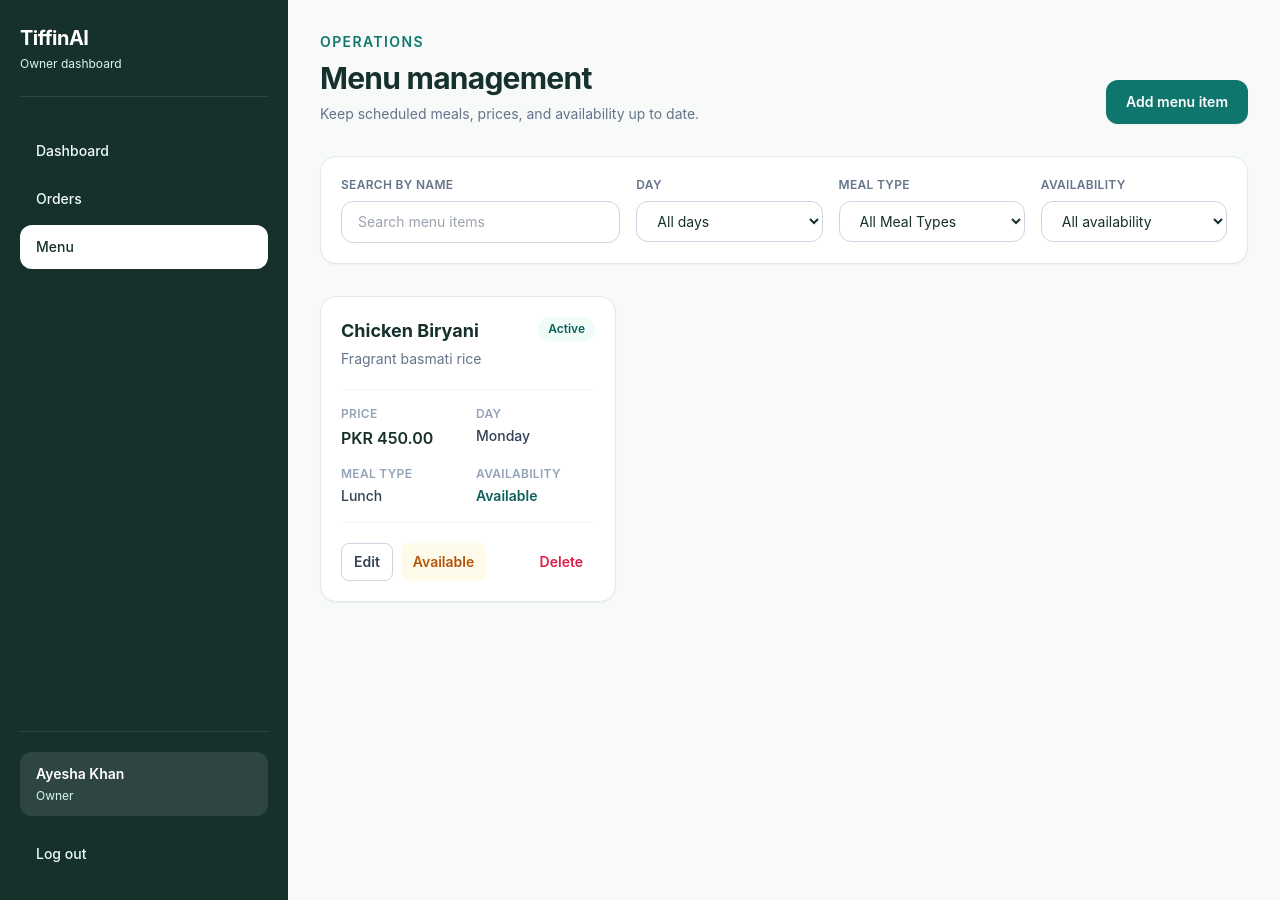
it: Menu management › edits description, price, and availability through PATCH
The image size is (1280, 900).
Click the button with aria-label "Edit Chicken Biryani" at (367, 562), box [341,543,393,581]
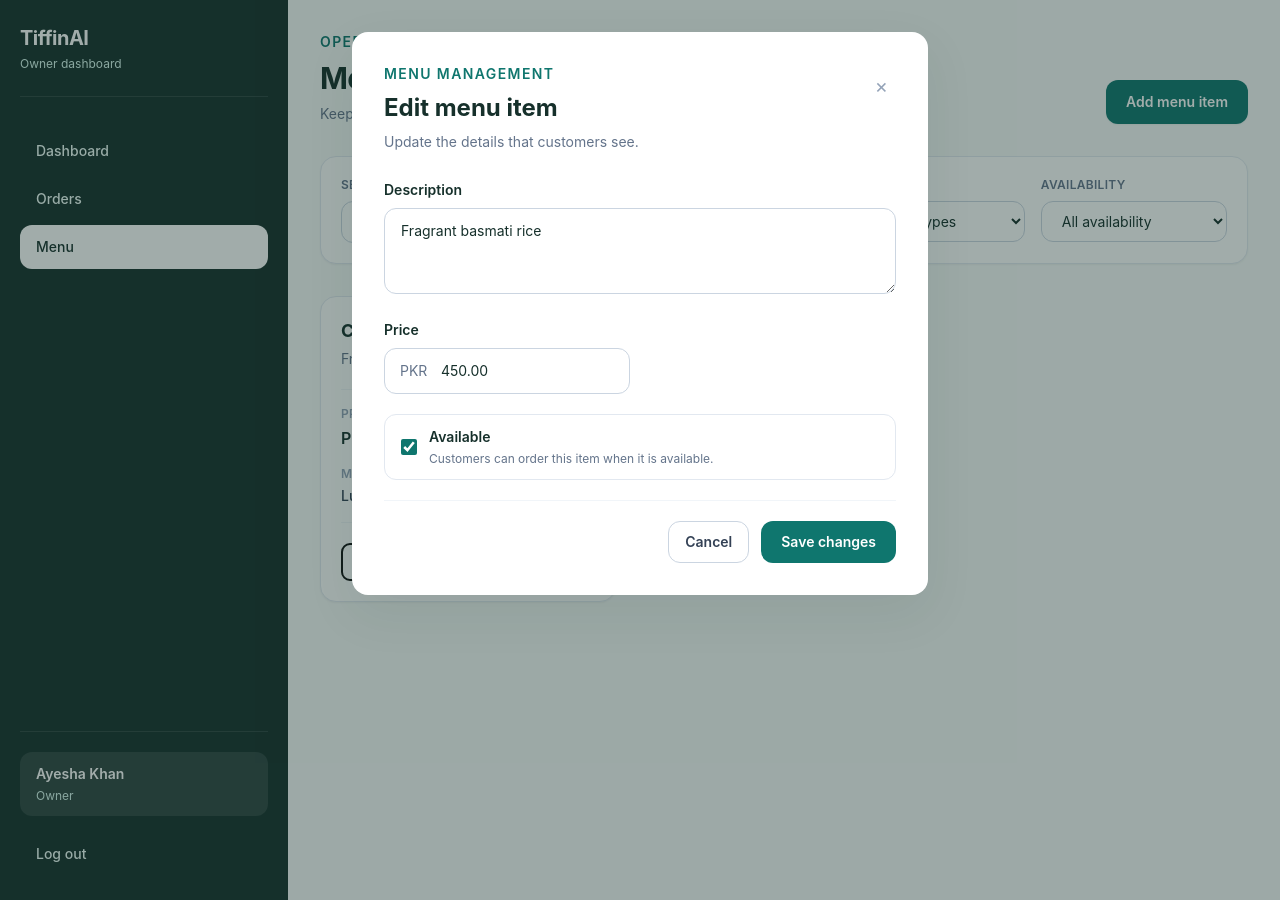
Replace the text in the text box labelled "Description" with "Extra fragrant basmati rice" at (640, 251), box [384,208,896,294]
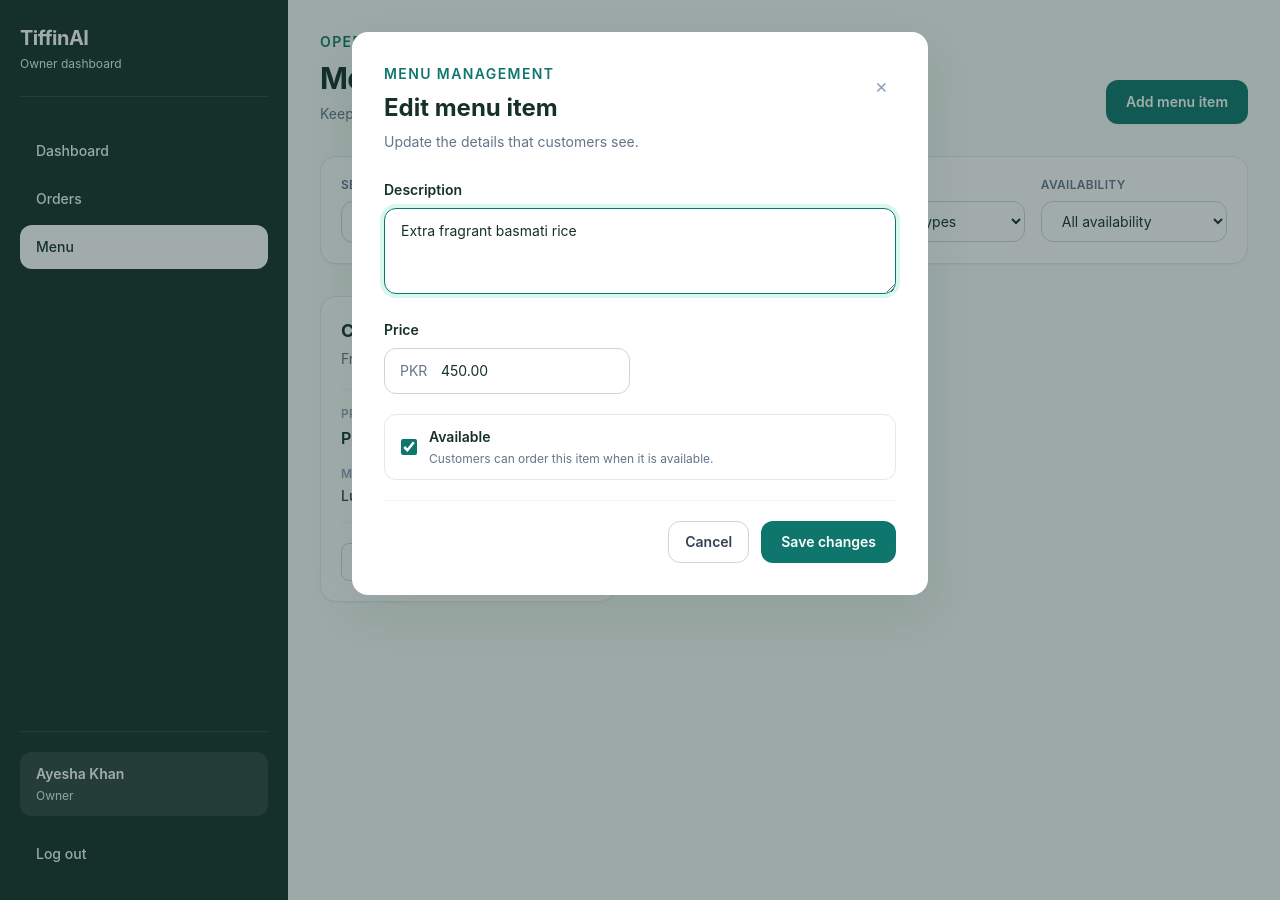
Type "475.00" into the field labelled "Price" at (507, 371), box [384,348,630,394]
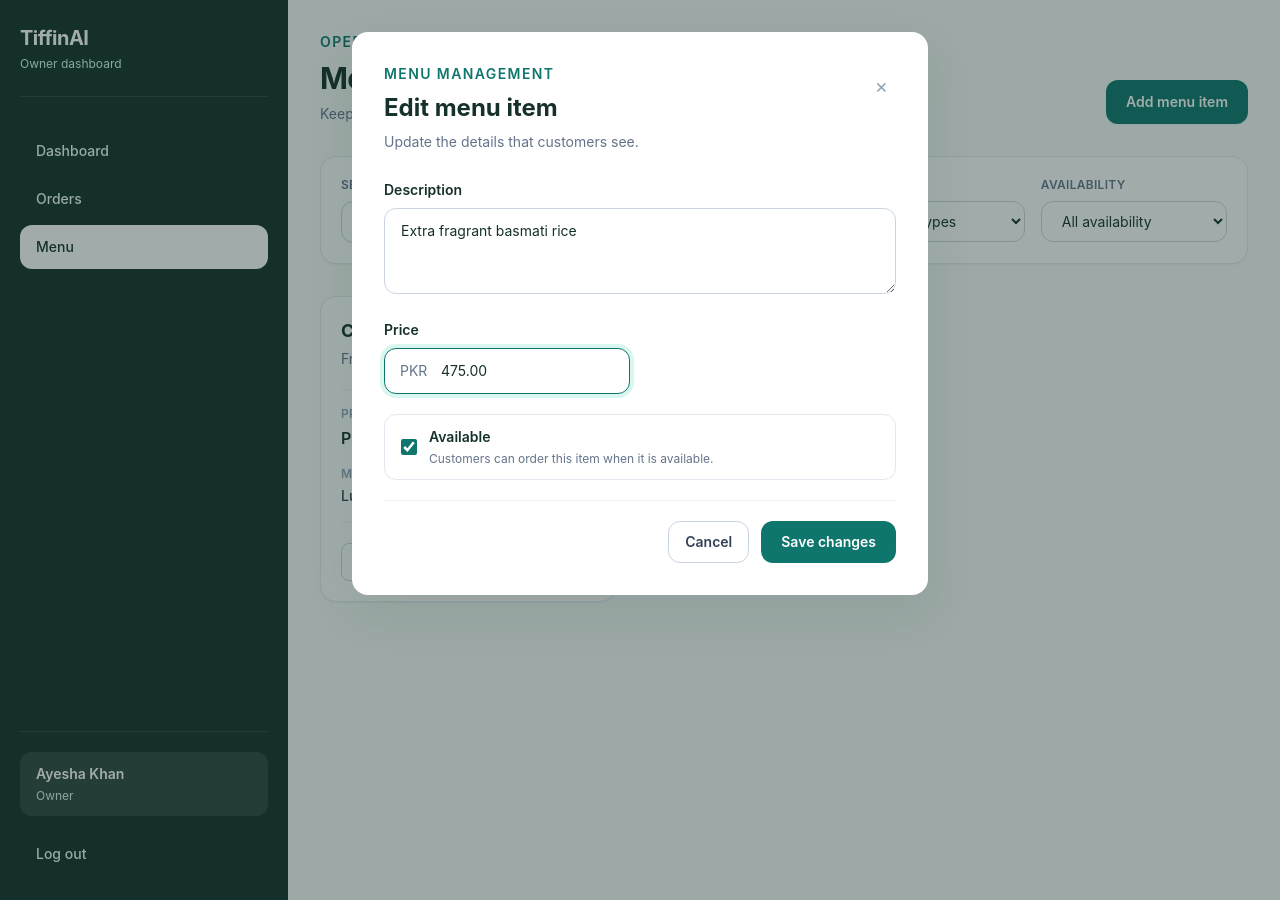
Click the checkbox at (409, 447), box [401,439,417,455]
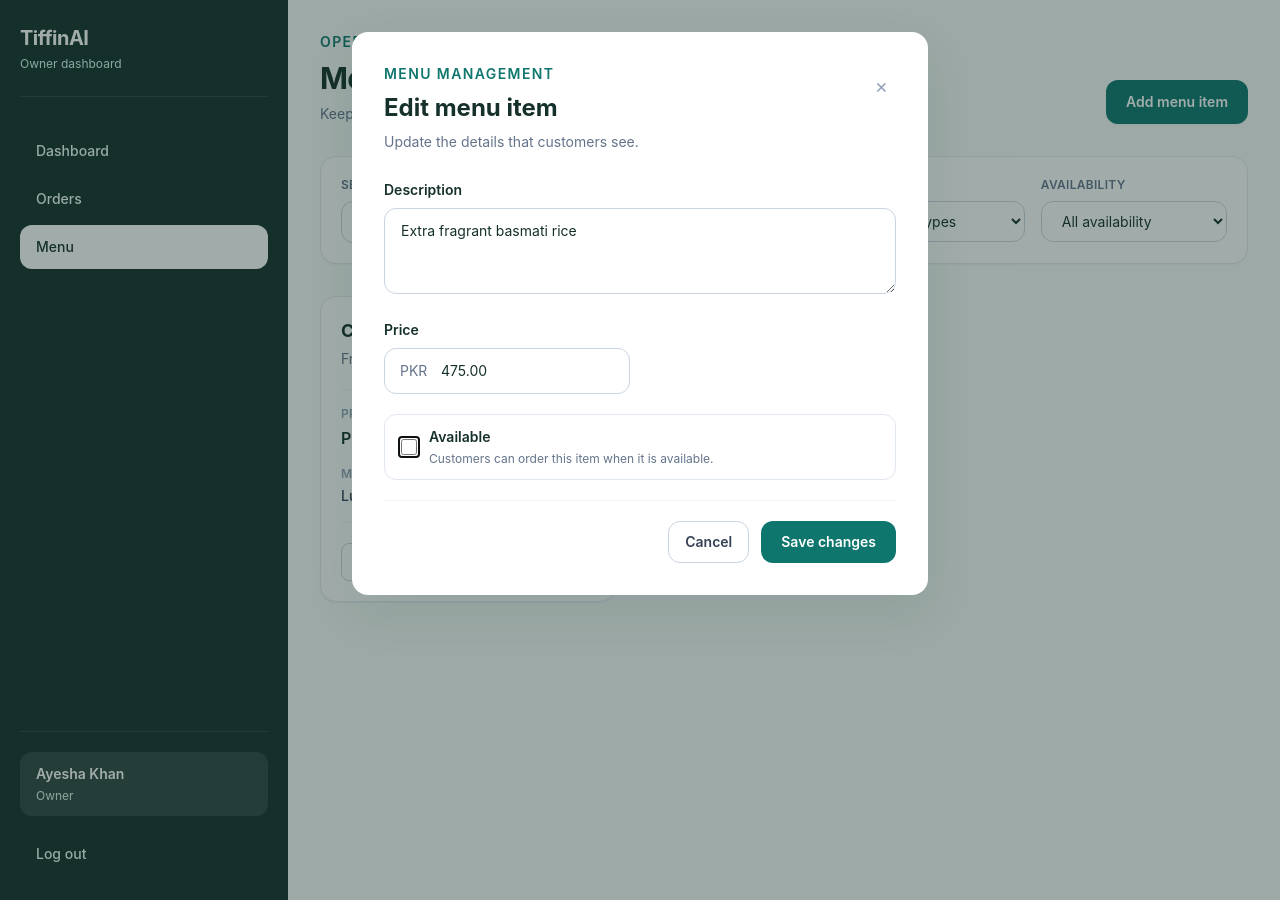
Click the button "Save changes" at (829, 542), box [761,521,896,563]
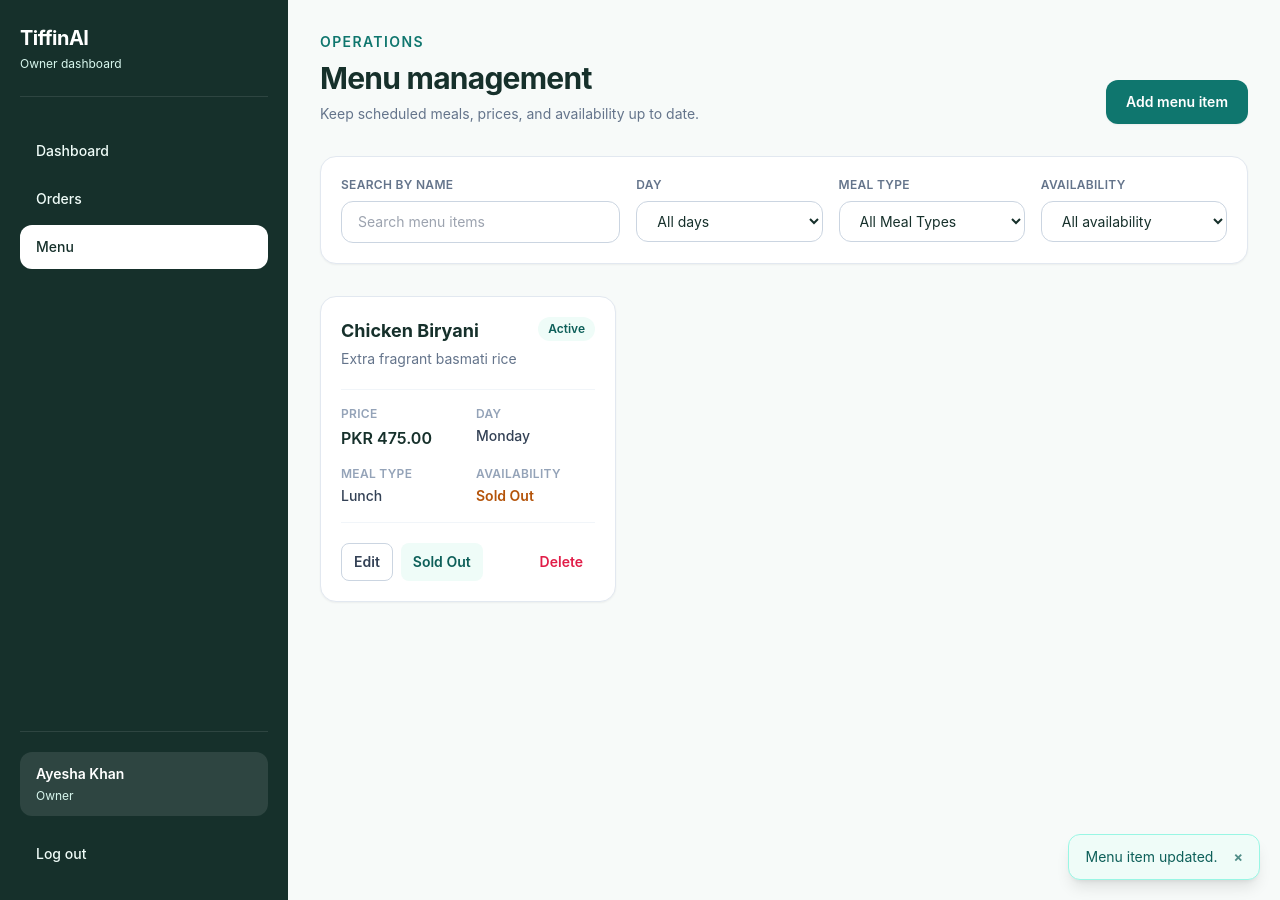
Now the message shows "Menu item updated", box [1086,848,1218,865]
Now the text "Extra fragrant basmati rice" is shown, box [341,349,517,369]
